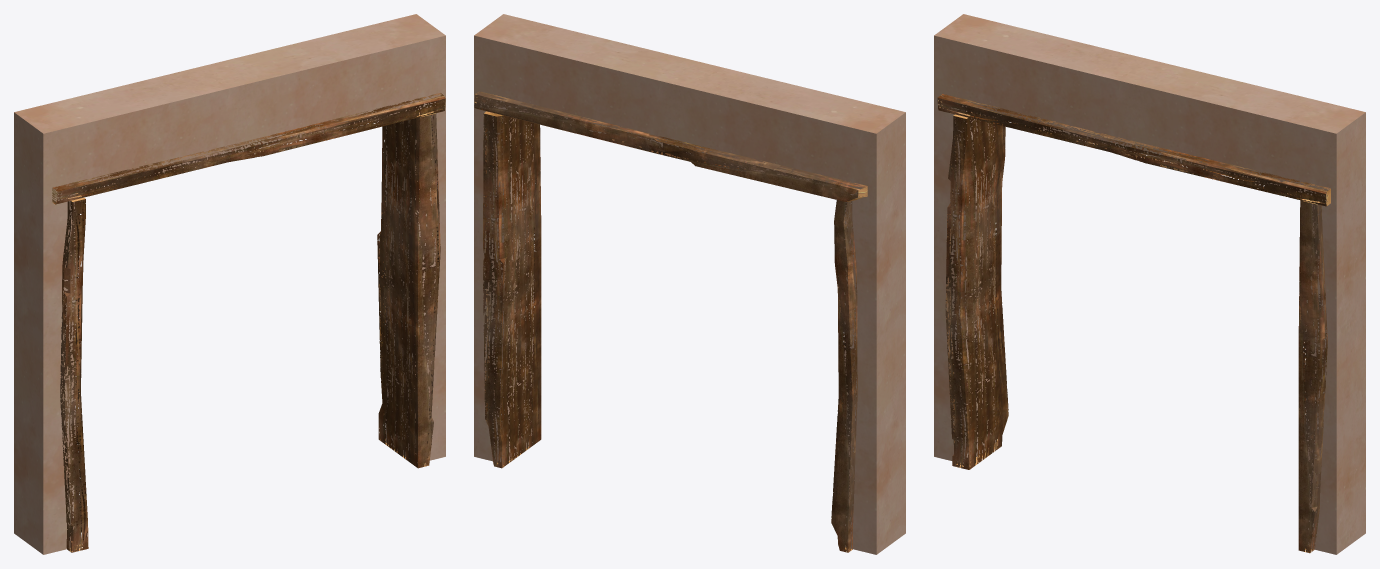
The picture shows the model from 3 angles, left to right: view 1: azimuth 30°, elevation 25°; view 2: azimuth 150°, elevation 25°; view 3: azimuth 330°, elevation 25°; orthographic projection.
Parts seen in each view (by area): view 1: SM_BB_T4_Wall_Doorframe_Double_02_LOD0; view 2: SM_BB_T4_Wall_Doorframe_Double_02_LOD0; view 3: SM_BB_T4_Wall_Doorframe_Double_02_LOD0.
Part boxes in pixels (x1=…): SM_BB_T4_Wall_Doorframe_Double_02_LOD0: x1=14, y1=14, x2=445, y2=554; SM_BB_T4_Wall_Doorframe_Double_02_LOD0: x1=474, y1=14, x2=905, y2=554; SM_BB_T4_Wall_Doorframe_Double_02_LOD0: x1=934, y1=14, x2=1365, y2=554.
Bounding box in the file's own units: 3 × 3 × 0.5174.
Materials: 2 (2 with a texture image).
